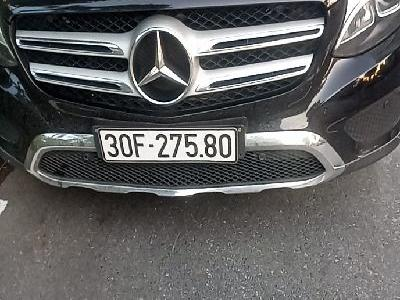number: (97, 129, 237, 162)
